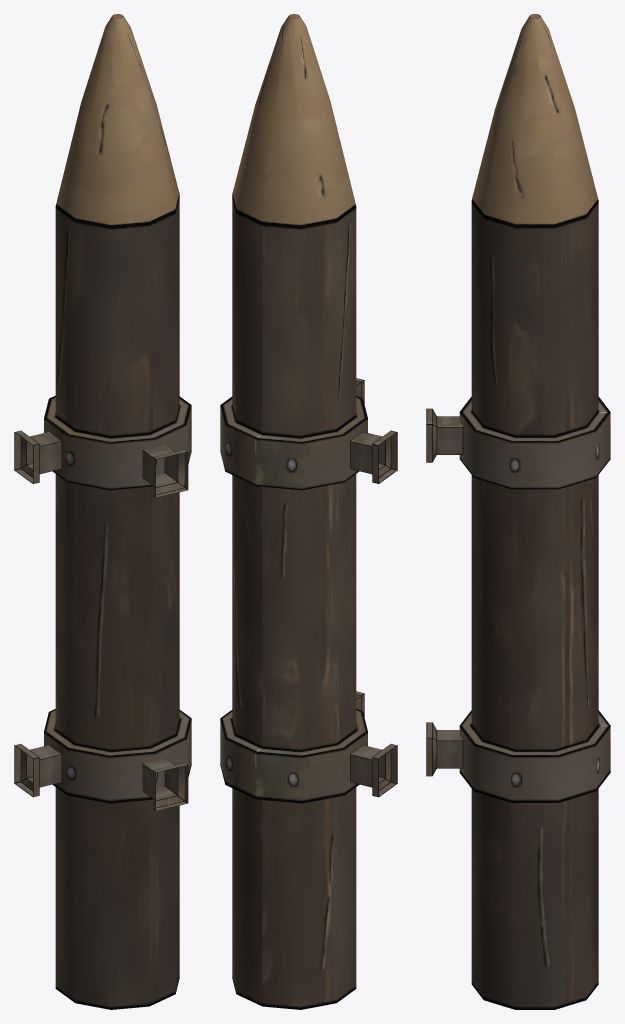
Rendered from wall_stake_edge.fbx.
3 renders of one model, left to right at view 1: azimuth 30°, elevation 25°; view 2: azimuth 150°, elevation 25°; view 3: azimuth 270°, elevation 25°, orthographic.
Parts seen in each view (by area): view 1: wall_stake_edge; view 2: wall_stake_edge; view 3: wall_stake_edge.
Part boxes in pixels (left/top/right/bottom): wall_stake_edge: left=14, top=14, right=191, bottom=1009; wall_stake_edge: left=220, top=14, right=397, bottom=1009; wall_stake_edge: left=426, top=14, right=610, bottom=1009.
Size of the model in its own units: 68.4 by 404 by 69.8.
Materials: 1 (1 with a texture image).
